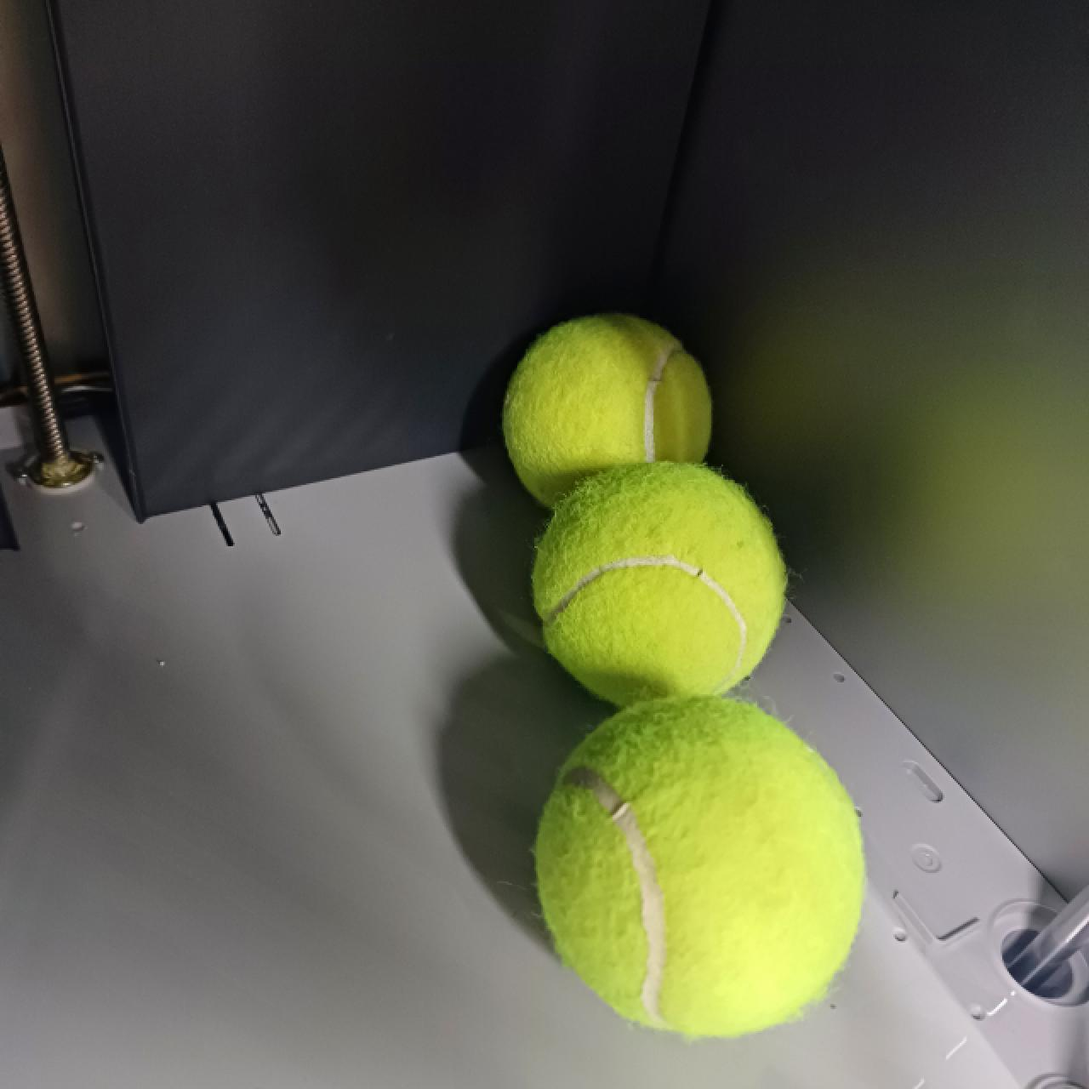tennis-ball: (532, 694, 865, 1039), (529, 463, 792, 711), (501, 314, 716, 523)
